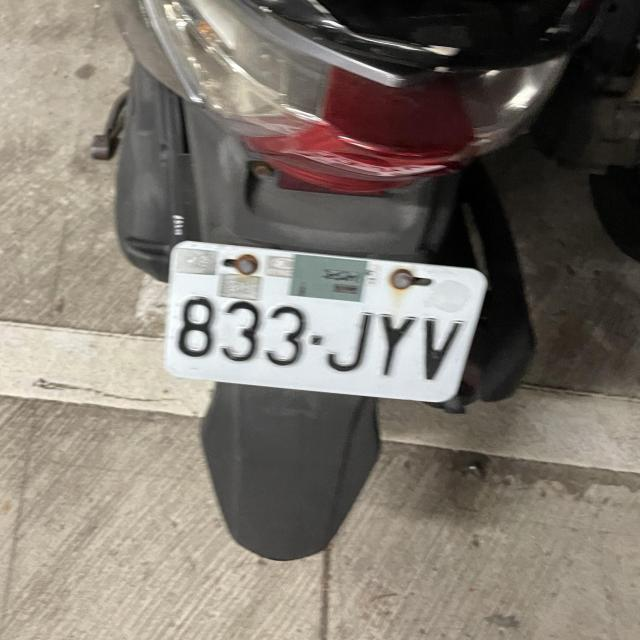W: (153, 239, 490, 406)
